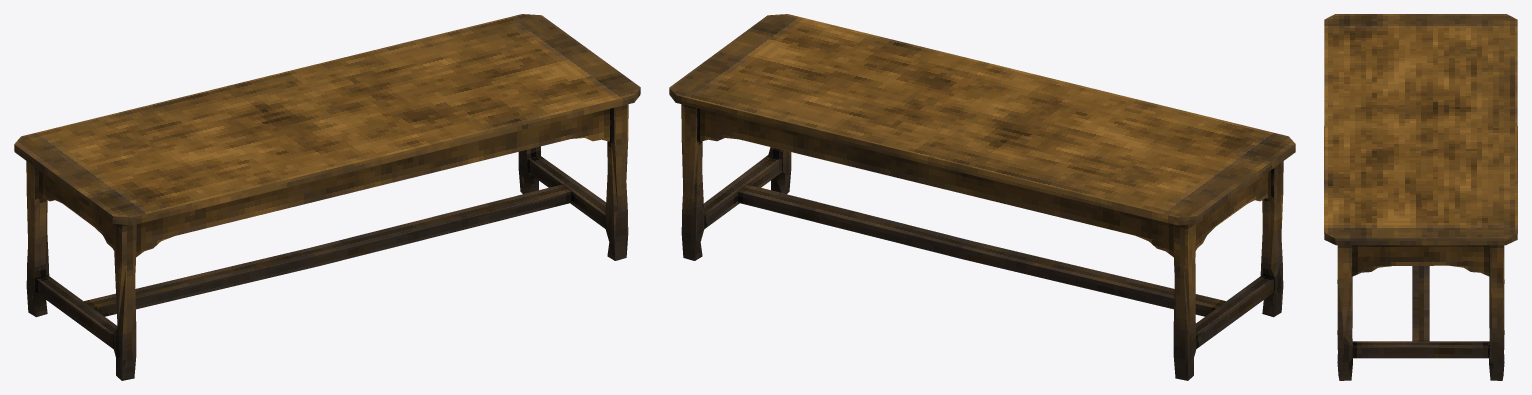
File: WoodenTable_01.glb
3 views of the same model, side by side, from view 1: azimuth 30°, elevation 25°; view 2: azimuth 150°, elevation 25°; view 3: azimuth 270°, elevation 25° (orthographic). The views are drawn at different scales.
Visible parts, largest first — view 1: WoodenTable_01; view 2: WoodenTable_01; view 3: WoodenTable_01.
Part boxes in pixels (x1,y1,x2,y2): WoodenTable_01: (14, 14, 640, 380); WoodenTable_01: (669, 14, 1295, 380); WoodenTable_01: (1324, 14, 1517, 380).
Bounding box in the file's own units: 1.79 × 0.5488 × 0.6534.
Materials: 1 (1 with a texture image).
